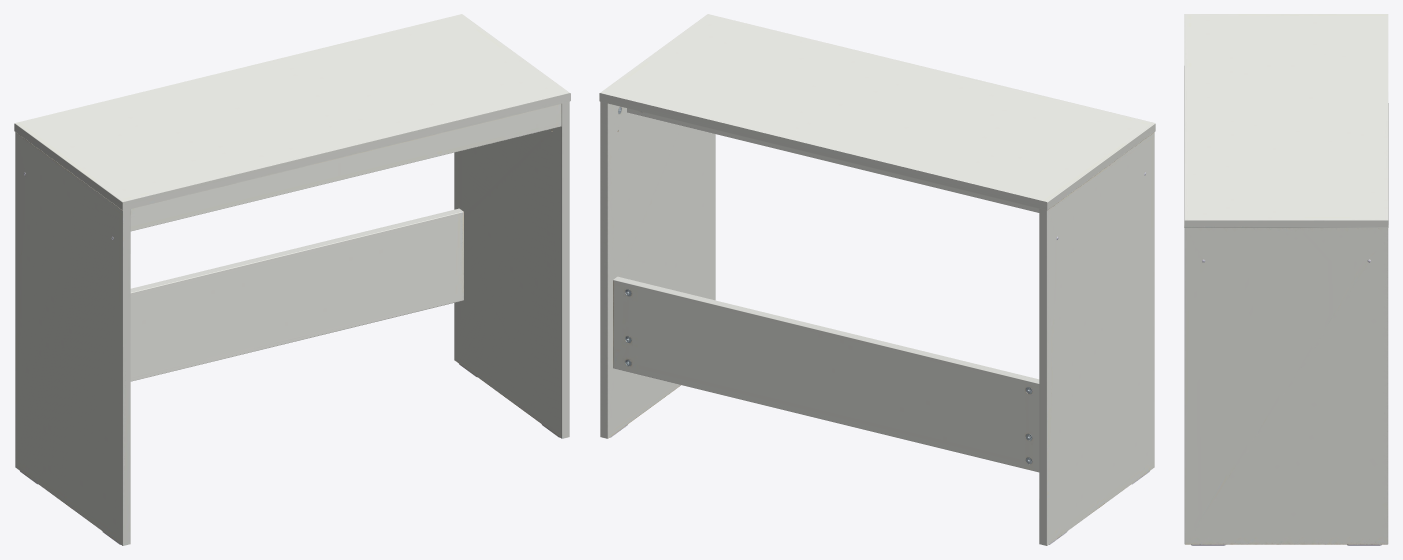
The model's file is lastare_sto_20615837.glb.
3 views of the same model, side by side, from view 1: azimuth 30°, elevation 25°; view 2: azimuth 150°, elevation 25°; view 3: azimuth 270°, elevation 25° (orthographic). The views are drawn at different scales.
Parts seen in each view (by area): view 1: lastare_sto_20615837; view 2: lastare_sto_20615837; view 3: lastare_sto_20615837.
Part boxes in pixels (box(x1,y1,x2,y2)): lastare_sto_20615837: box(14, 14, 570, 545); lastare_sto_20615837: box(599, 14, 1155, 545); lastare_sto_20615837: box(1184, 14, 1388, 545).
Bounding box in the file's own units: 1 × 0.74 × 0.4191.
1 material, 1 textured.
